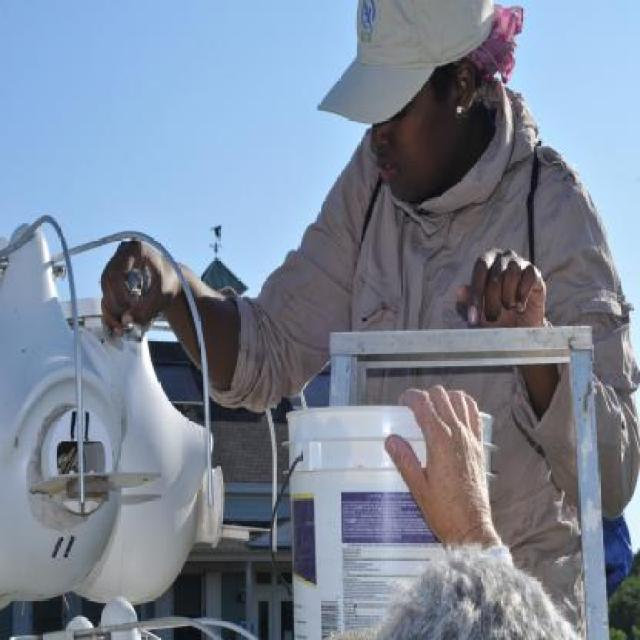Person: (125, 42, 572, 595), (376, 378, 581, 639)
